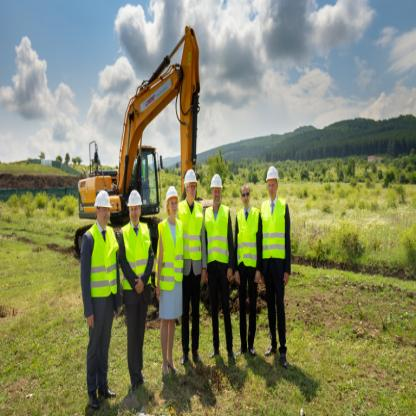person: (259, 146, 296, 376), (74, 191, 112, 406), (115, 180, 150, 394), (205, 163, 234, 364), (154, 180, 182, 387), (181, 159, 205, 370), (235, 169, 260, 363)
